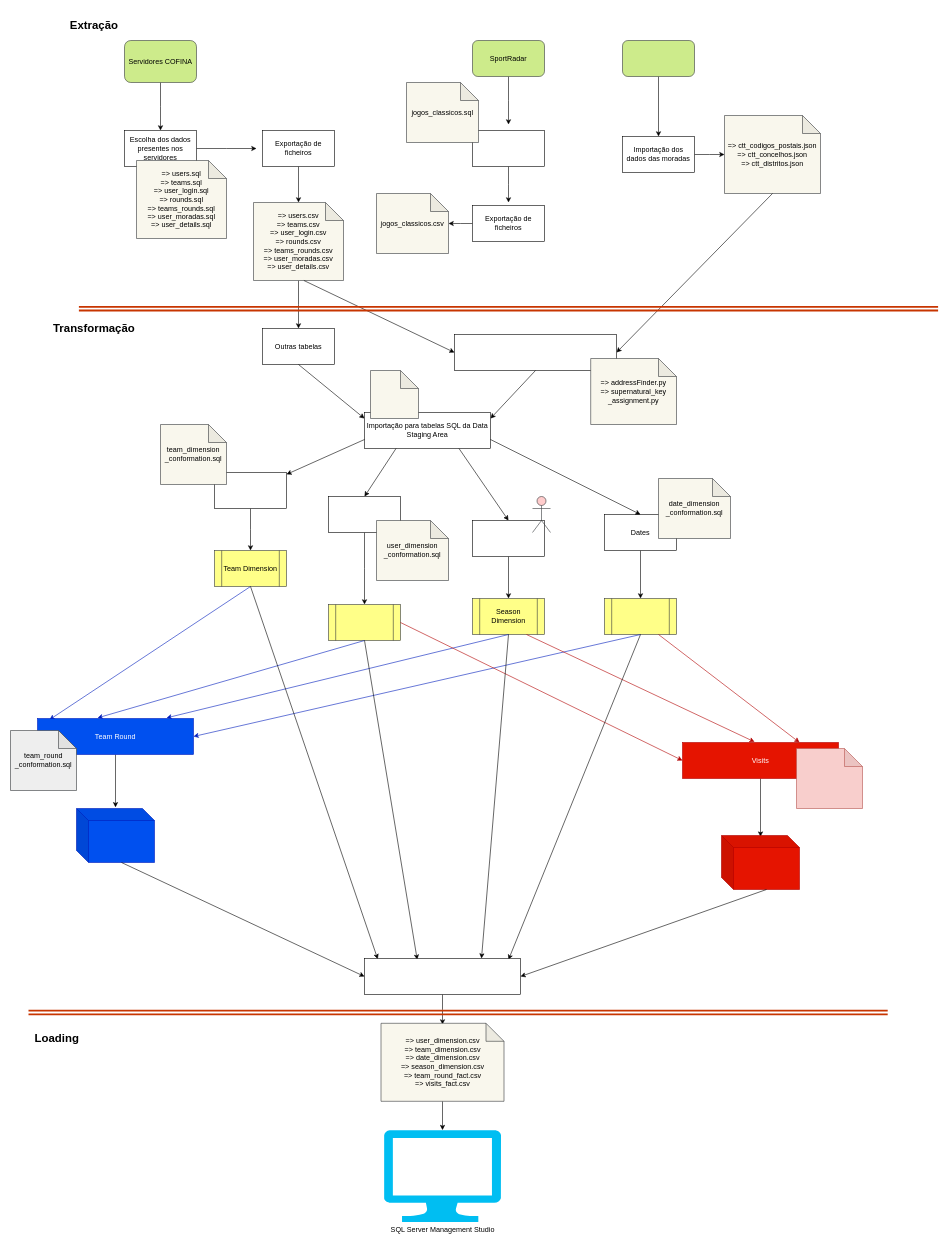
The diagram is 949 pixels wide and 1244 high, and some of its shapes have lost their labels. The shapes that lost their labels are listed below. From the top down, each one's centre as x and y in pixels, then its label:
point (658, 58): CTT
point (508, 148): Escolha dos jogos clássicos
point (535, 352): Tratamento da informação de users
point (394, 394): scripts sql
point (250, 490): Teams
point (364, 514): Users
point (508, 538): Seasons (manual)
point (364, 622): User Dimension
point (640, 616): Date Dimension
point (829, 778): visits _conformation.sql
point (115, 835): Team Round Fact
point (760, 862): Visits Fact
point (442, 976): Exportação para CSV
